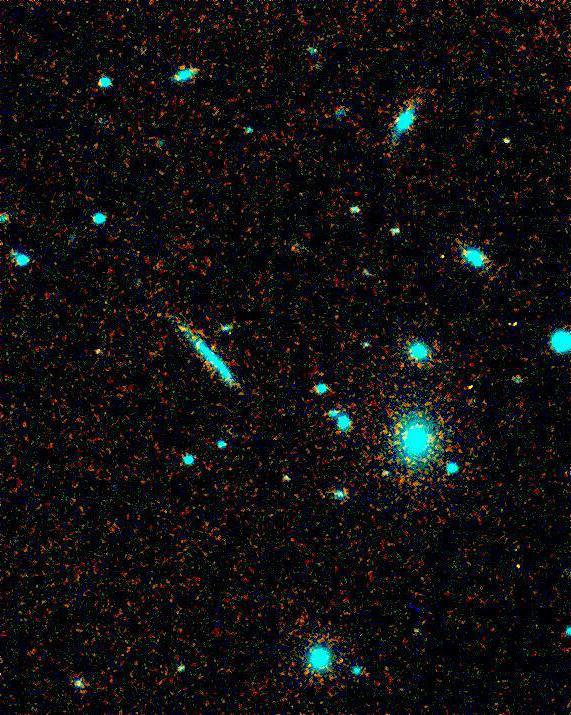star: (204, 332, 234, 362)
